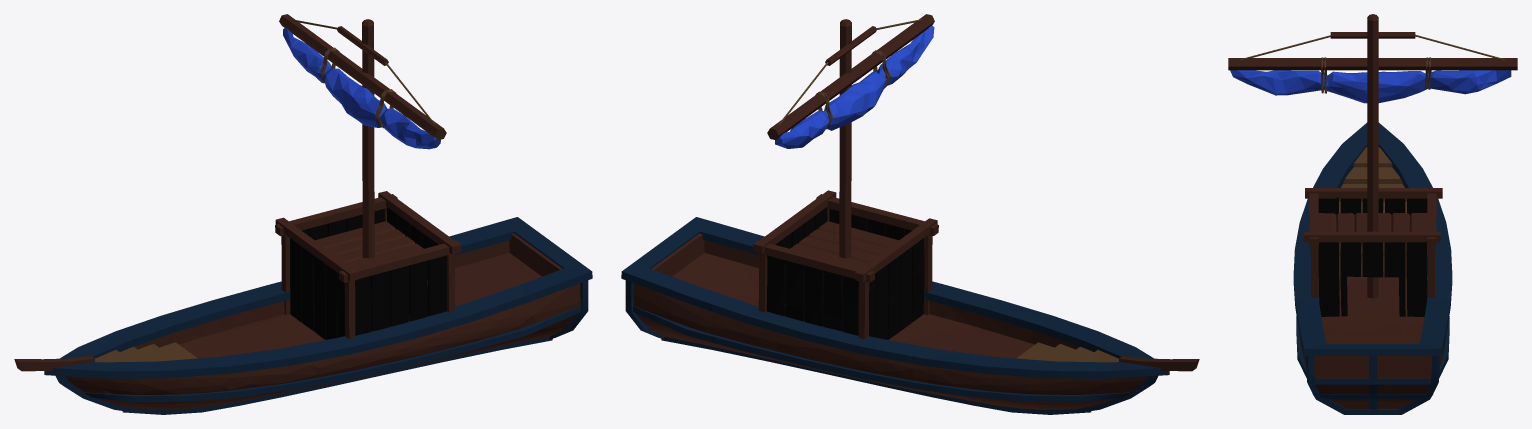
File: boat_03.FBX
3 views of the same model, side by side, from view 1: azimuth 30°, elevation 25°; view 2: azimuth 150°, elevation 25°; view 3: azimuth 270°, elevation 25° (orthographic). The views are drawn at different scales.
Parts seen in each view (by area): view 1: boat_03; view 2: boat_03; view 3: boat_03.
Part boxes in pixels (x1,y1,x2,y2): boat_03: (14,14,592,414); boat_03: (621,14,1199,414); boat_03: (1228,14,1517,414).
Bounding box in the file's own units: 1848 × 1139 × 928.
